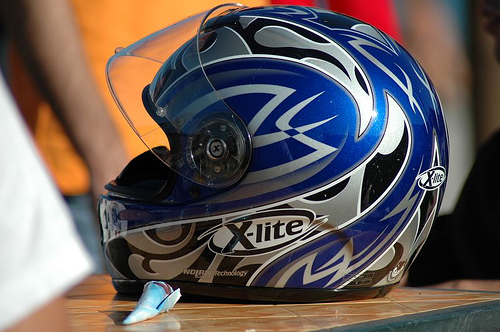helmet: (91, 10, 448, 311)
